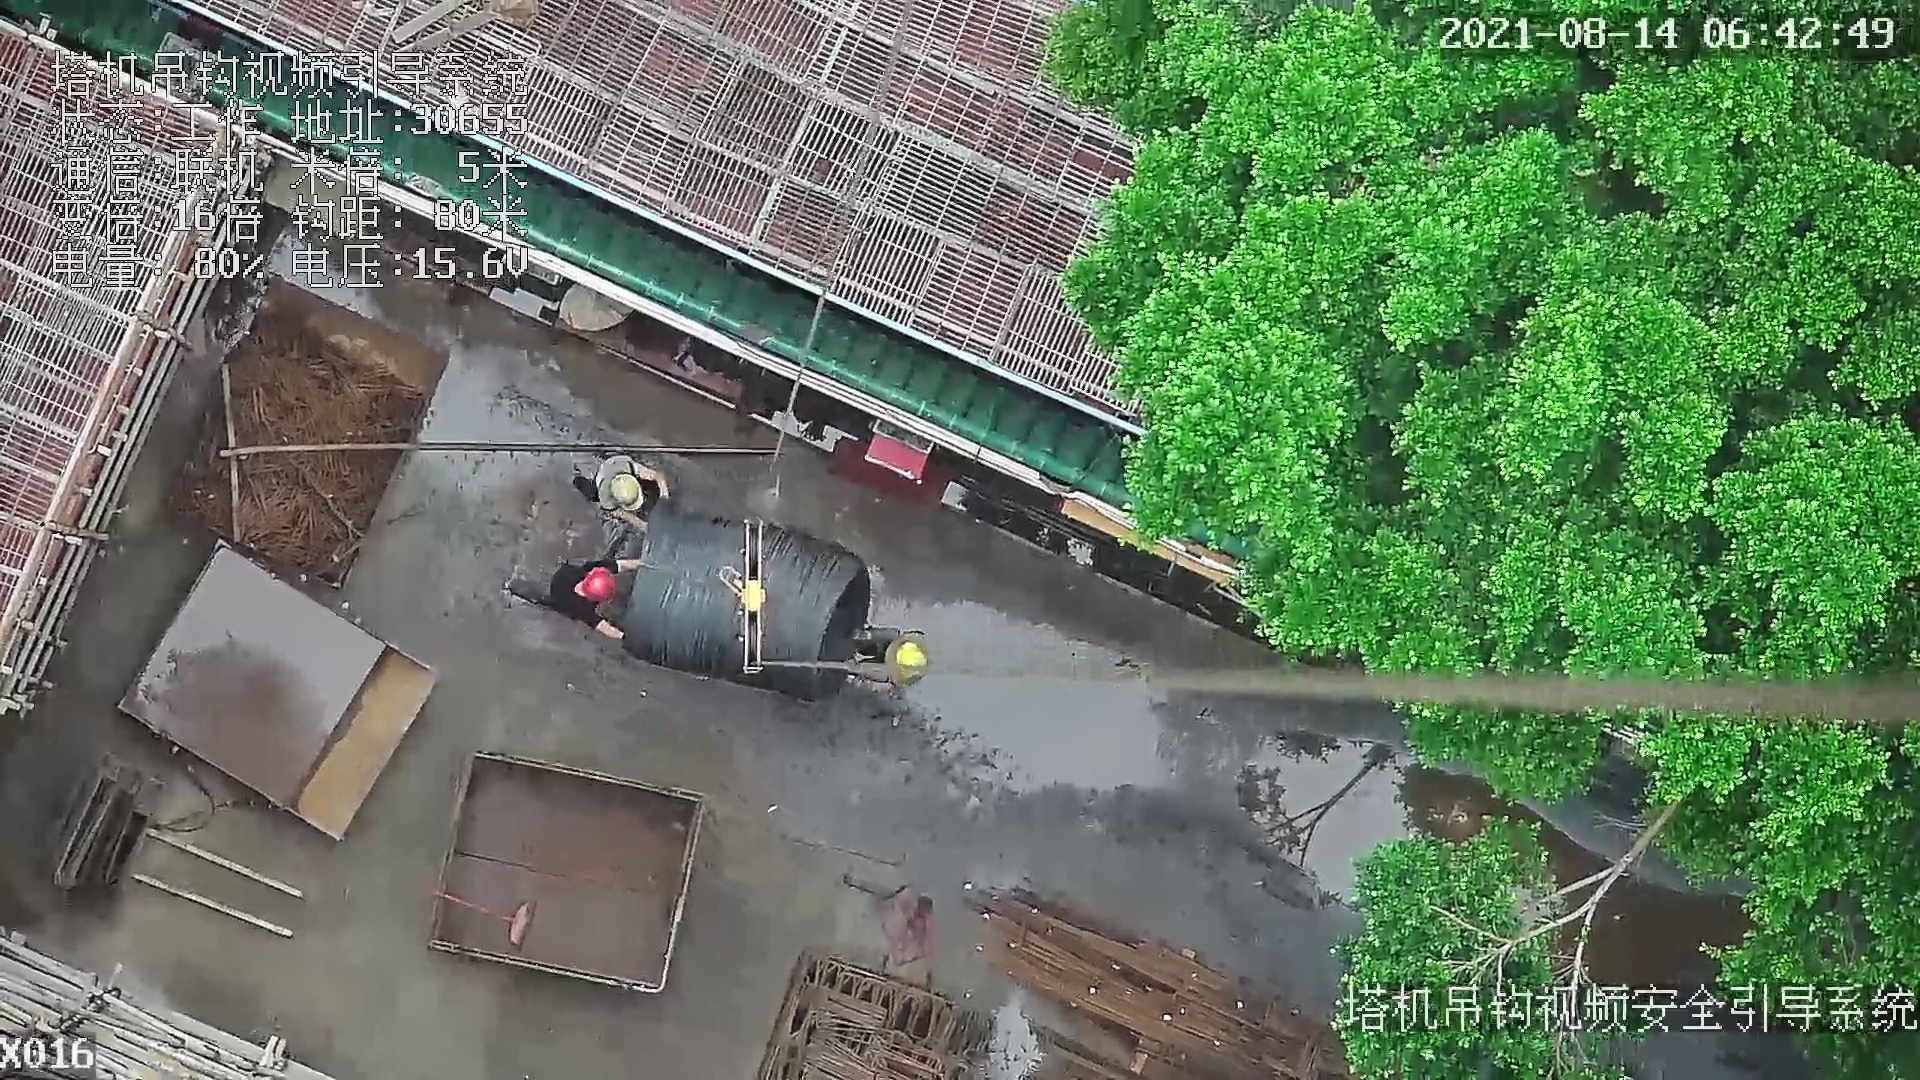helmet: (584, 567, 622, 600), (899, 642, 932, 676), (614, 475, 647, 508)
hook: (719, 513, 773, 677)
person: (503, 549, 649, 646), (569, 445, 670, 535), (851, 612, 928, 692)
